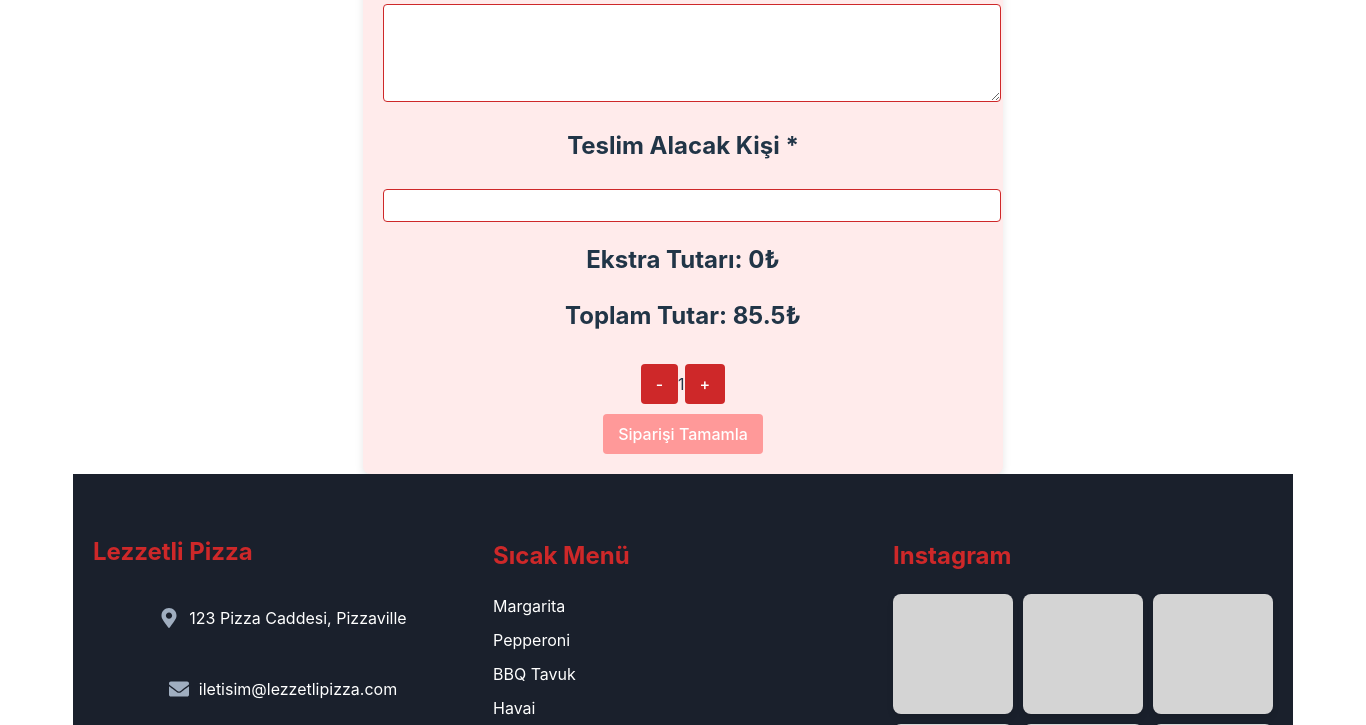
Sipariş Kontrol Formu Testleri › Pizza adedini arttırdığında fiyatın doğru hesaplanmasını kontrol eder
(page scrolled)
Step 1. Click the button "+" → (706, 384), box [685, 364, 726, 404]
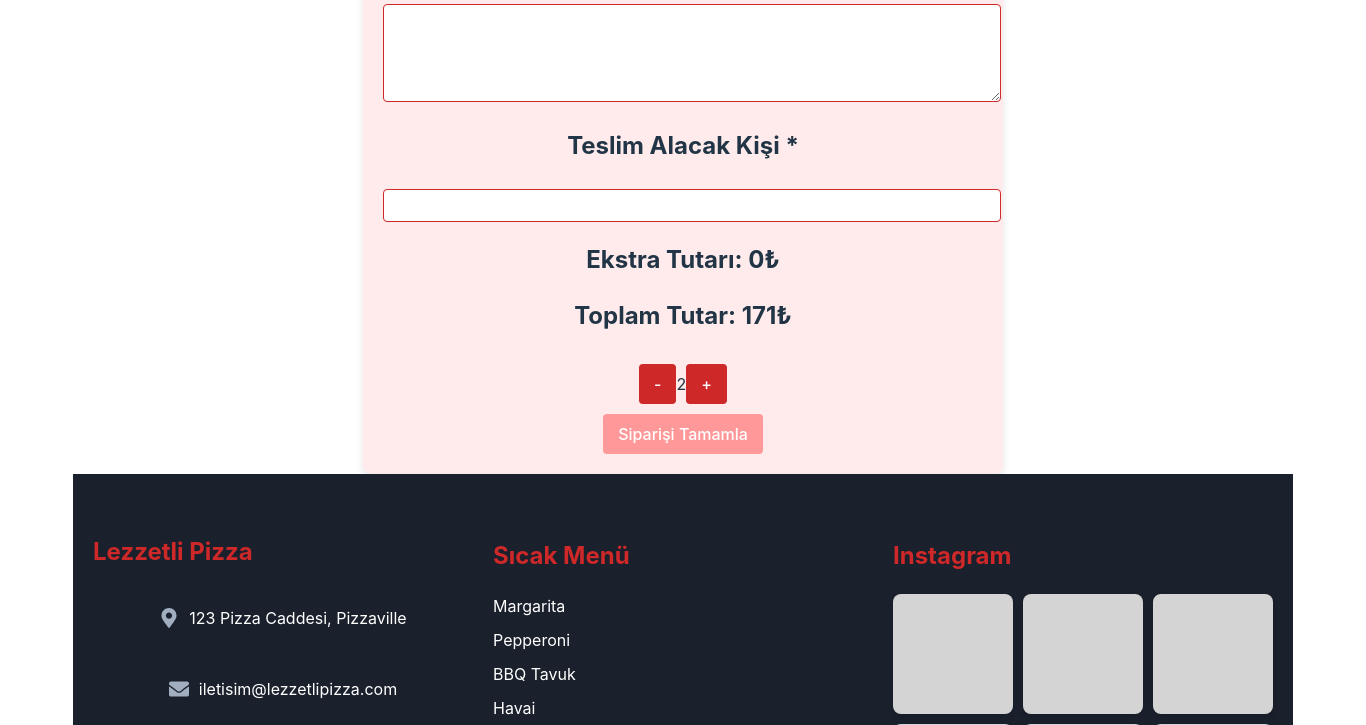
Expected: the heading "Toplam Tutar: 171₺" is shown, [574, 301, 792, 330]
